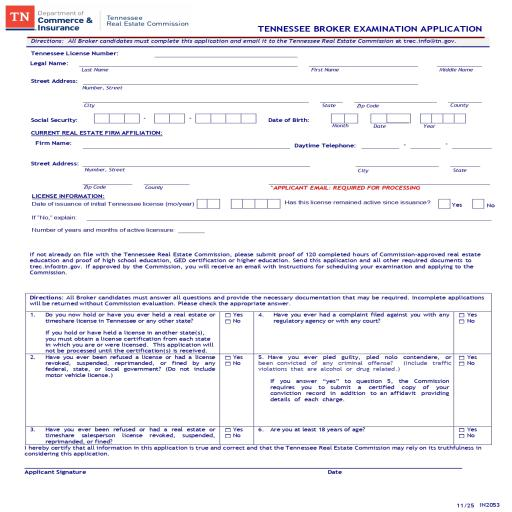Address: (31, 156, 79, 168), (29, 76, 79, 87)
Signature: (20, 468, 91, 479)
check_box: (435, 194, 497, 214), (457, 312, 482, 326), (457, 428, 485, 440), (223, 426, 245, 441), (223, 311, 246, 325), (457, 353, 480, 367), (221, 354, 245, 367)
date: (321, 470, 351, 476)
free_text: (31, 50, 121, 59), (29, 114, 82, 127), (266, 114, 310, 125), (30, 58, 70, 70), (34, 138, 78, 148)
number: (294, 140, 358, 150)
